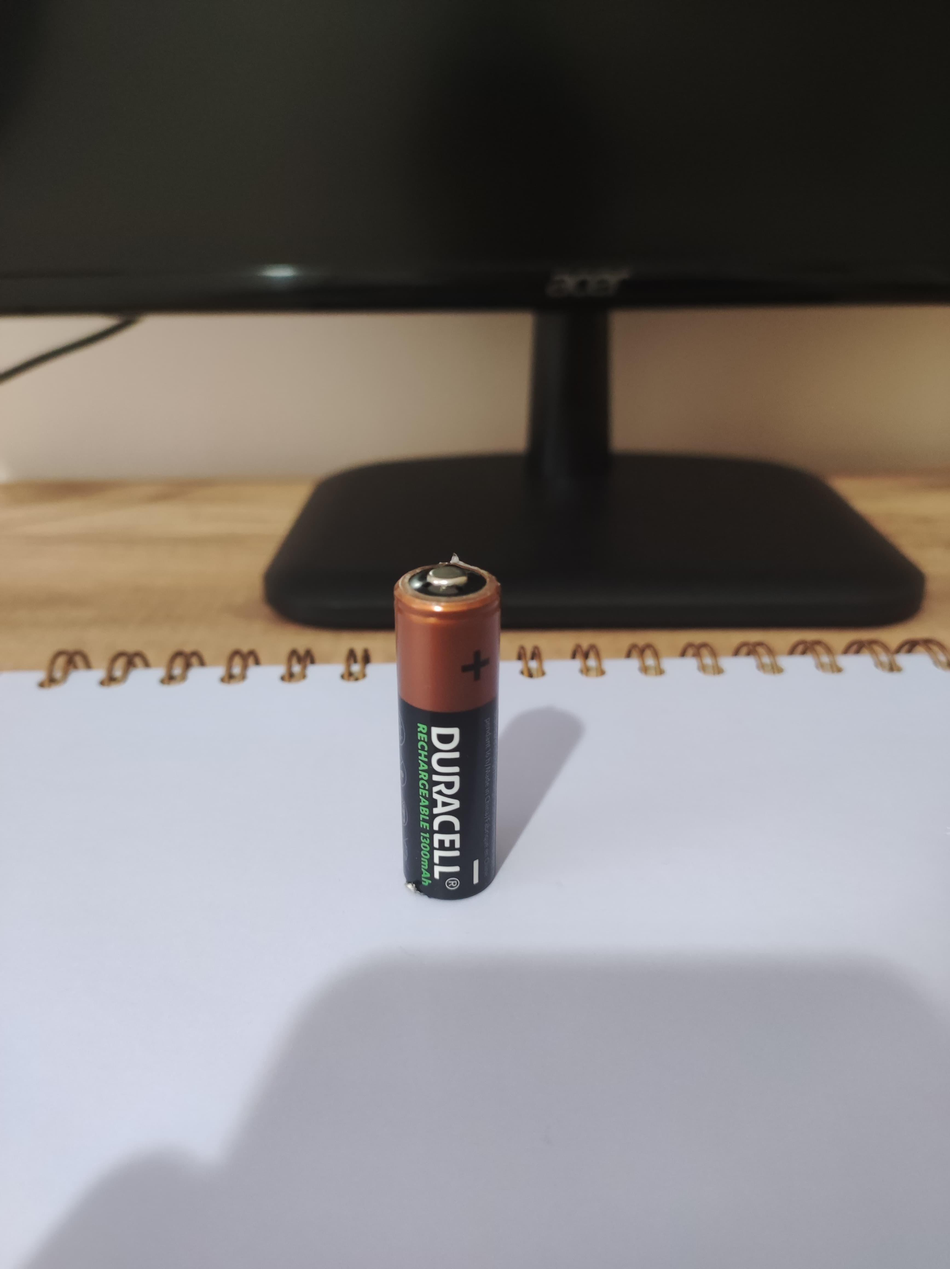AA: (392, 552, 502, 900)
